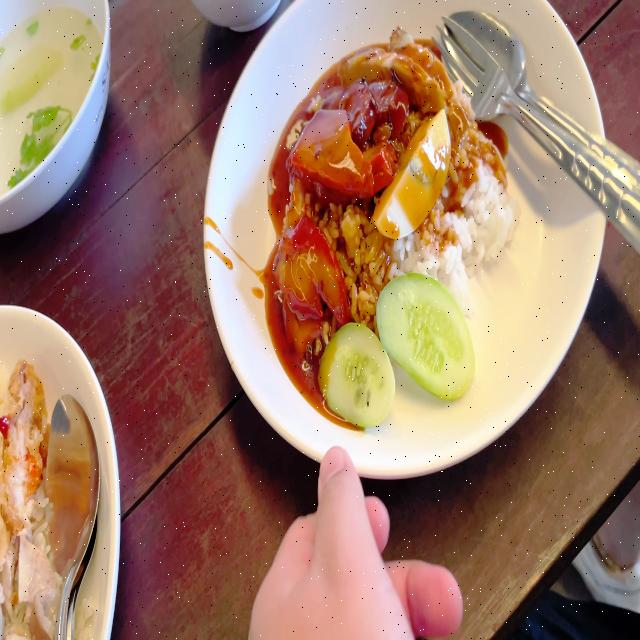boiled_egg: (371, 112, 457, 236)
chainese_sausage: (338, 68, 403, 140)
crispy_pork: (357, 24, 470, 138)
cucumber: (380, 267, 472, 398), (317, 321, 398, 421)
fried_chicken: (0, 361, 55, 529)
red_pork: (286, 107, 391, 197), (276, 213, 338, 347)
red_pork_and_crispy_pork: (269, 26, 514, 423)
